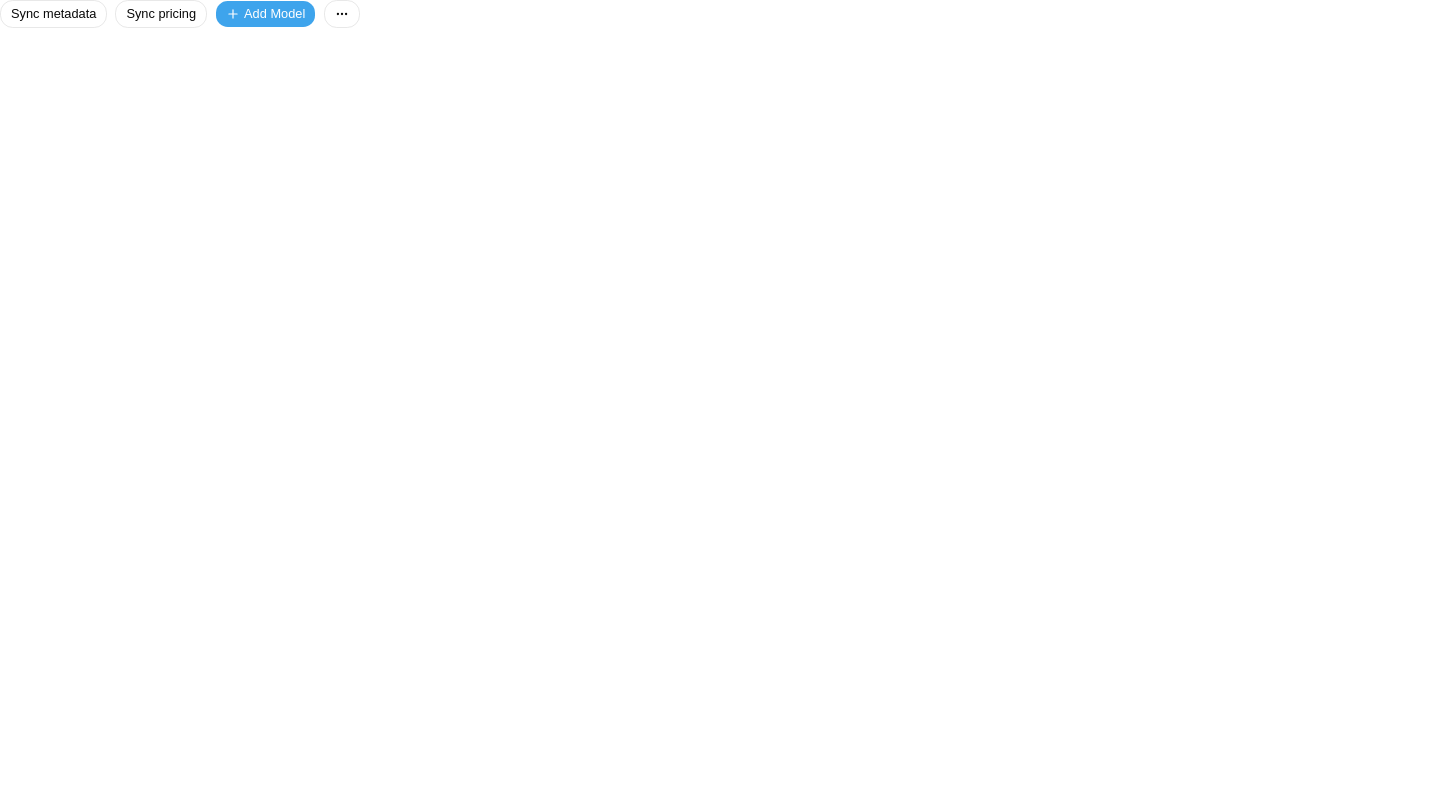
Test: hides the counter when every enabled model has a tariff
The width and height of the screenshot is (1440, 810).
Check: the button "Add Model" is shown, box [215, 0, 316, 28]
Check: the button "Without tariff" is not shown
Click the button named "Open menu" at [342, 14], box [324, 0, 360, 28]
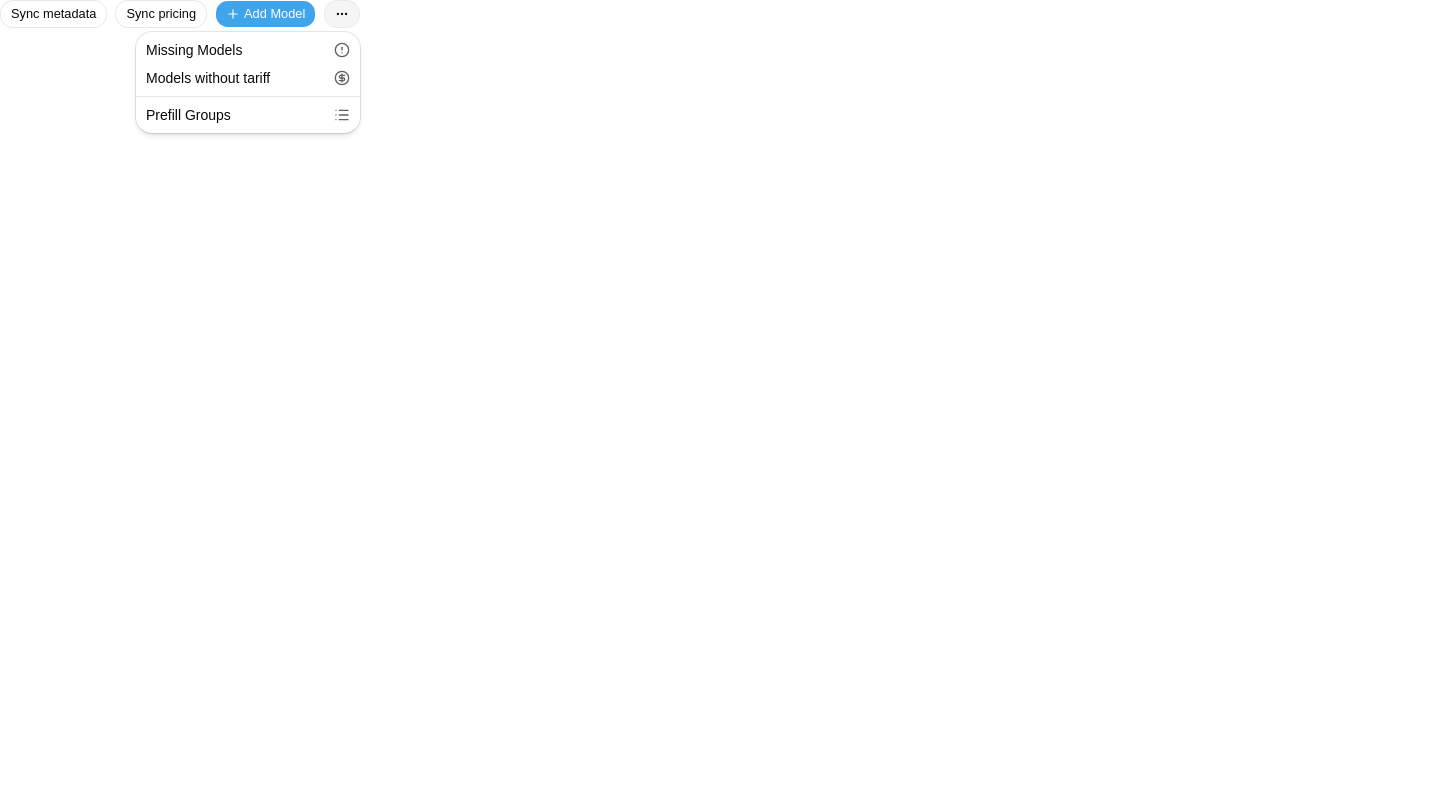
Click the menu item "Models without tariff" at [248, 78], box [146, 70, 350, 86]
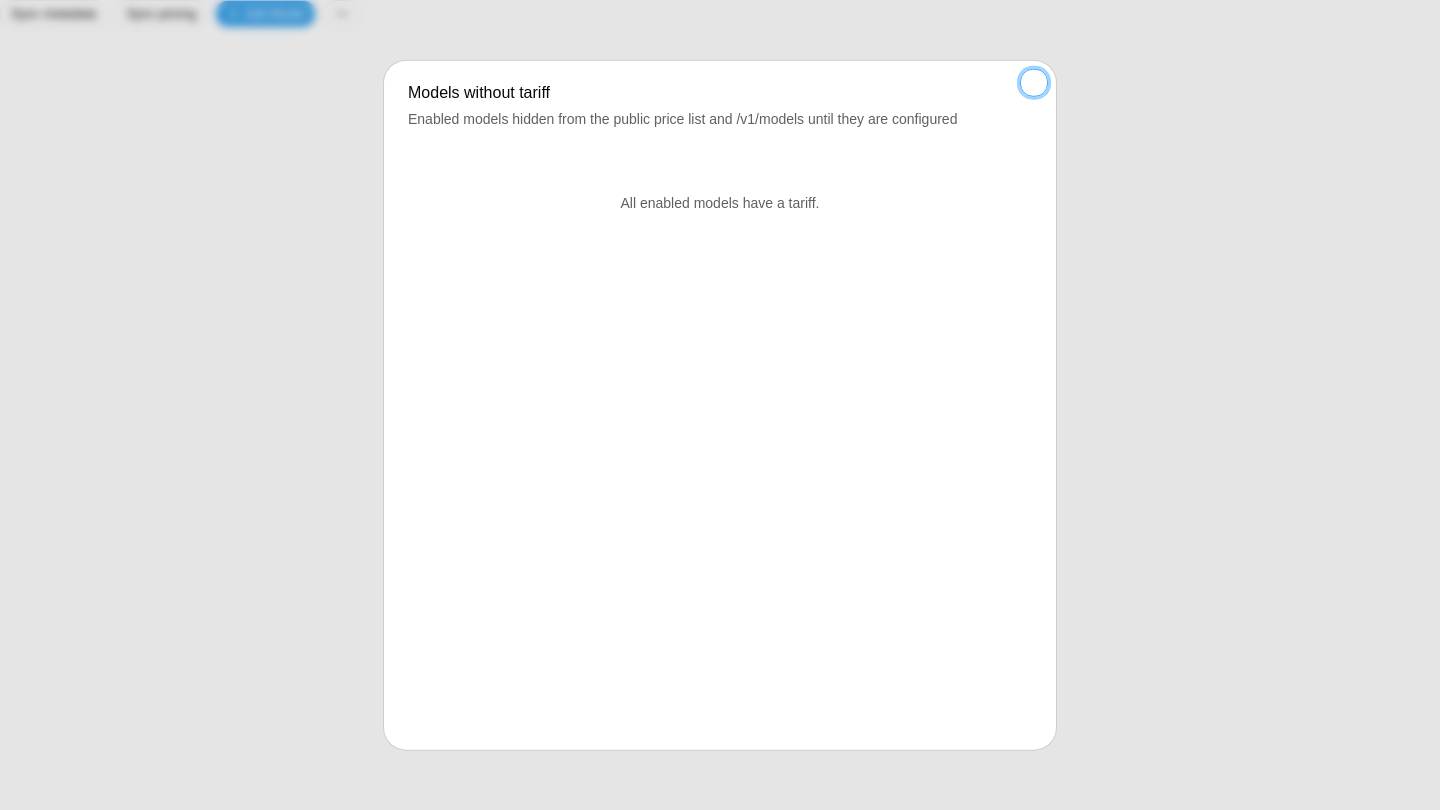
Check: the text "All enabled models have a tariff." is shown, box [620, 195, 820, 211]
